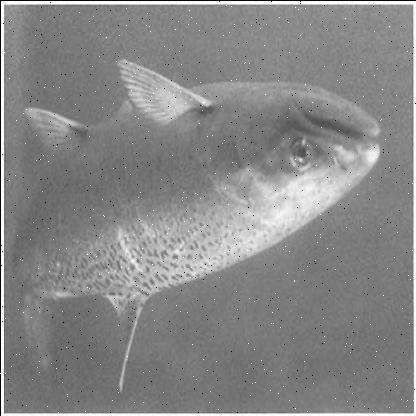fish: (10, 56, 380, 388)
